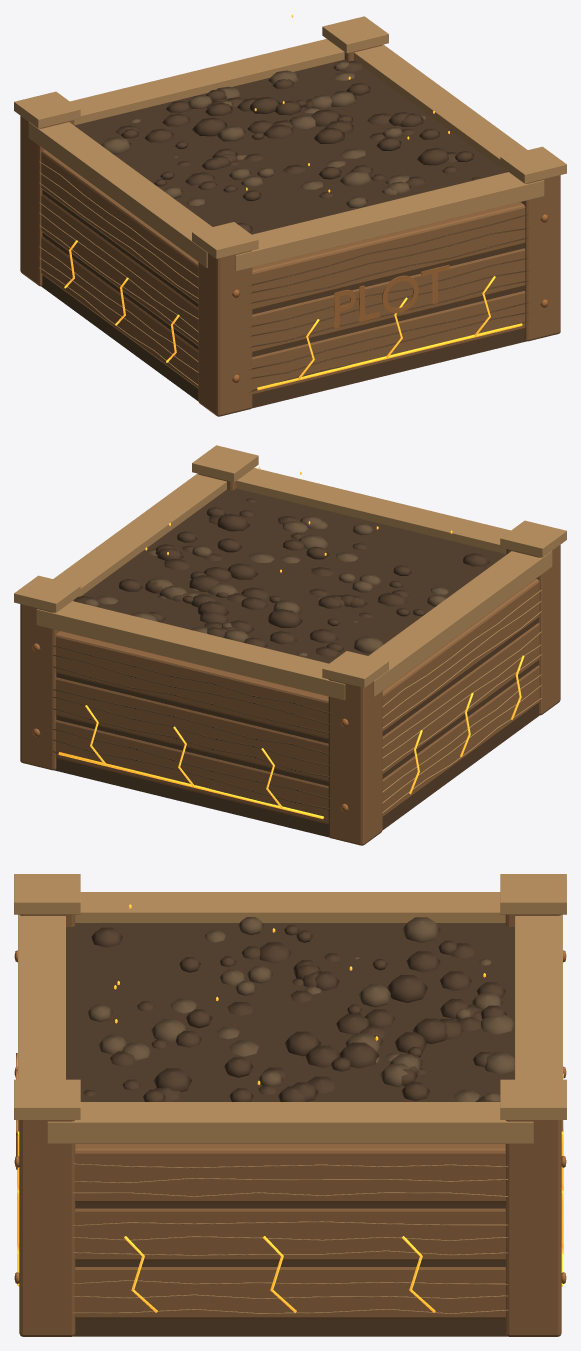
Rendered from raised-bed-v1.glb.
3 renders of one model, top to bottom at view 1: azimuth 30°, elevation 25°; view 2: azimuth 150°, elevation 25°; view 3: azimuth 270°, elevation 25°, orthographic. The views are drawn at different scales.
Parts seen in each view (by area): view 1: bed_HoneyTimber, bed_TimberEdges, bed_RichSoil, bed_WoodGrain, bed_SoilRidges, bed_CinderConduit, bed_PLOT; view 2: bed_HoneyTimber, bed_RichSoil, bed_TimberEdges, bed_WoodGrain, bed_SoilRidges, bed_CinderConduit; view 3: bed_HoneyTimber, bed_RichSoil, bed_TimberEdges, bed_WoodGrain, bed_SoilRidges, bed_CinderConduit.
Part boxes in pixels (bbox=[...]): bed_HoneyTimber: bbox=[20, 45, 560, 416]; bed_TimberEdges: bbox=[14, 16, 566, 385]; bed_RichSoil: bbox=[74, 59, 506, 234]; bed_WoodGrain: bbox=[41, 190, 531, 408]; bed_SoilRidges: bbox=[101, 61, 425, 208]; bed_CinderConduit: bbox=[64, 14, 522, 390]; bed_PLOT: bbox=[334, 265, 449, 327]; bed_HoneyTimber: bbox=[20, 474, 560, 845]; bed_RichSoil: bbox=[74, 488, 506, 663]; bed_TimberEdges: bbox=[14, 445, 566, 812]; bed_WoodGrain: bbox=[53, 619, 539, 837]; bed_SoilRidges: bbox=[83, 516, 448, 656]; bed_CinderConduit: bbox=[58, 466, 524, 819]; bed_HoneyTimber: bbox=[19, 914, 561, 1336]; bed_RichSoil: bbox=[66, 923, 514, 1101]; bed_TimberEdges: bbox=[14, 874, 566, 1314]; bed_WoodGrain: bbox=[73, 1203, 507, 1336]; bed_SoilRidges: bbox=[87, 917, 514, 1101]; bed_CinderConduit: bbox=[17, 904, 563, 1312].
Bounding box in the file's own units: 1.03 × 0.6188 × 1.03.
